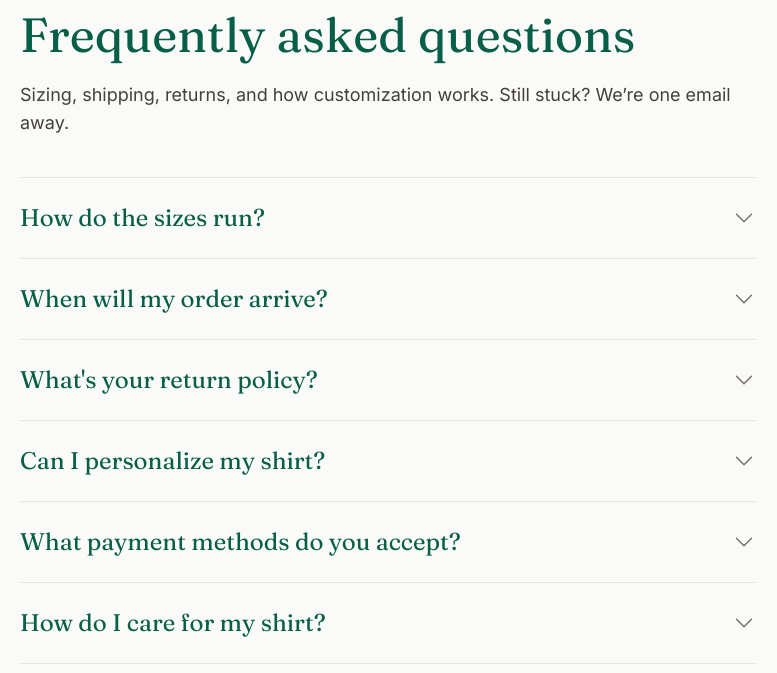
FAQ › keeps answers collapsed until their question is activated
What coordinates should you click on to do the following:
click the button "What's your return policy?"
I would click on:
 (169, 380)
Its box is [20,348,756,412].
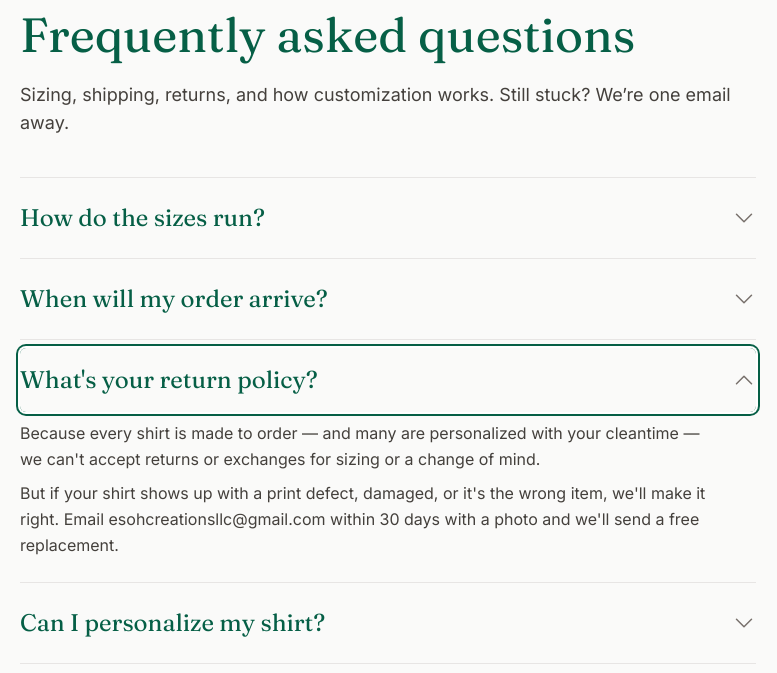
Result: the text "free replacement" is shown at [20,483,705,555]
